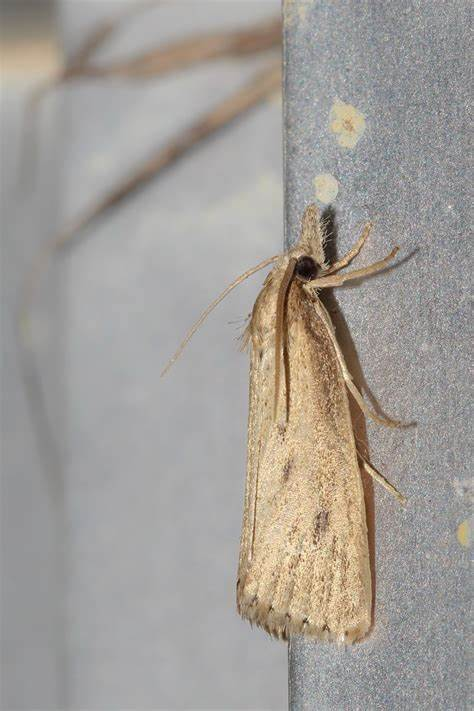Crambidae: (157, 202, 424, 649)
